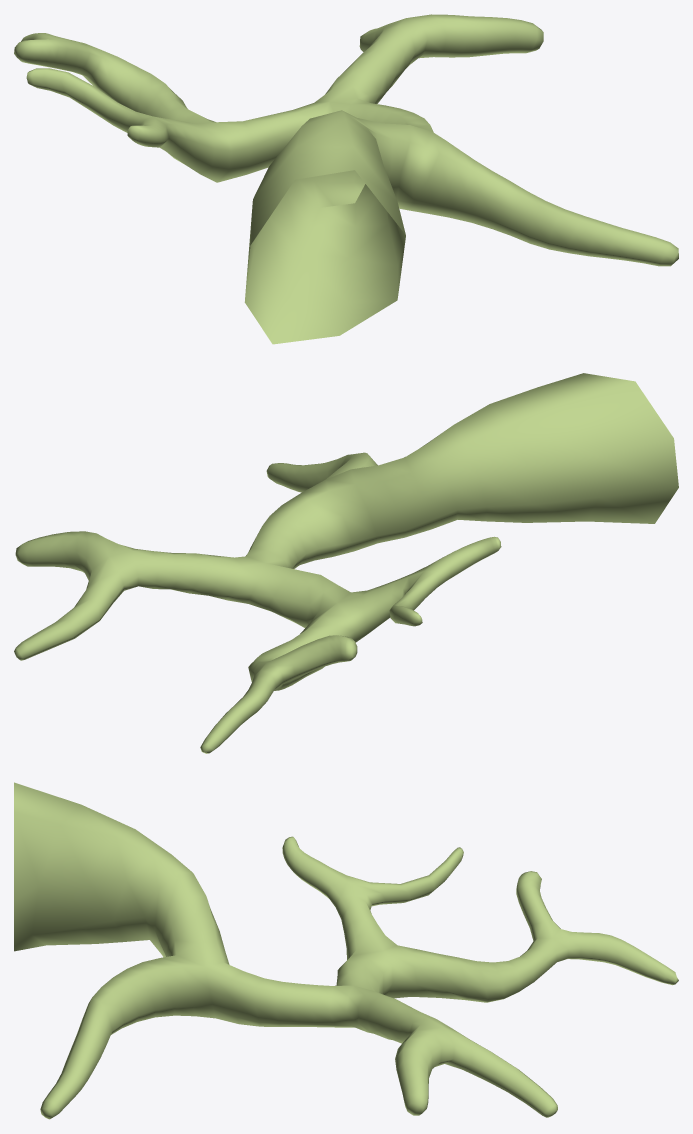
The model's file is Big tree branches_01.fbx.
3 renders of one model, top to bottom at view 1: azimuth 30°, elevation 25°; view 2: azimuth 150°, elevation 25°; view 3: azimuth 270°, elevation 25°, orthographic. The views are drawn at different scales.
Parts seen in each view (by area): view 1: polySurface590; view 2: polySurface590; view 3: polySurface590.
Boxes of the visible parts, bbox=[...] form: polySurface590: bbox=[14, 14, 678, 344]; polySurface590: bbox=[14, 373, 678, 753]; polySurface590: bbox=[14, 782, 678, 1119].
Bounding box in the file's own units: 110 × 38.7 × 138.
